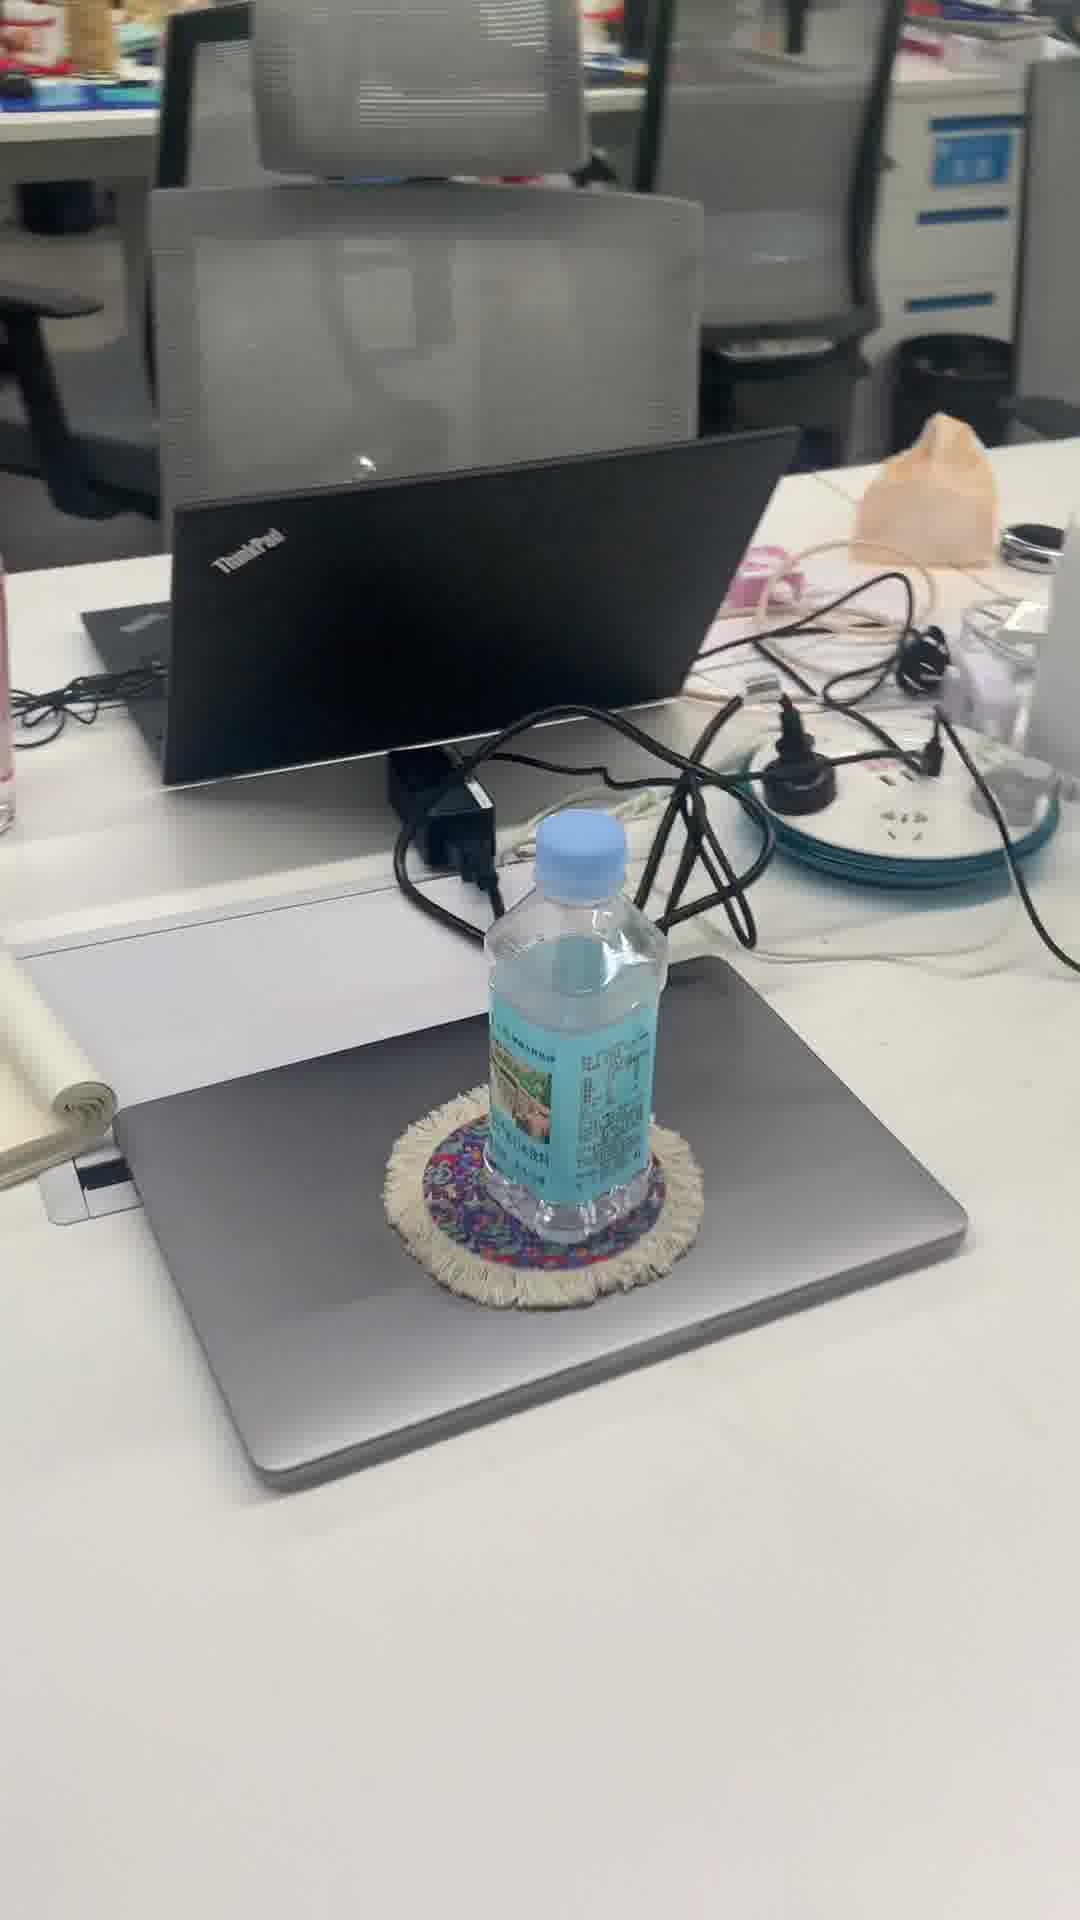水瓶: (483, 798, 665, 1247)
